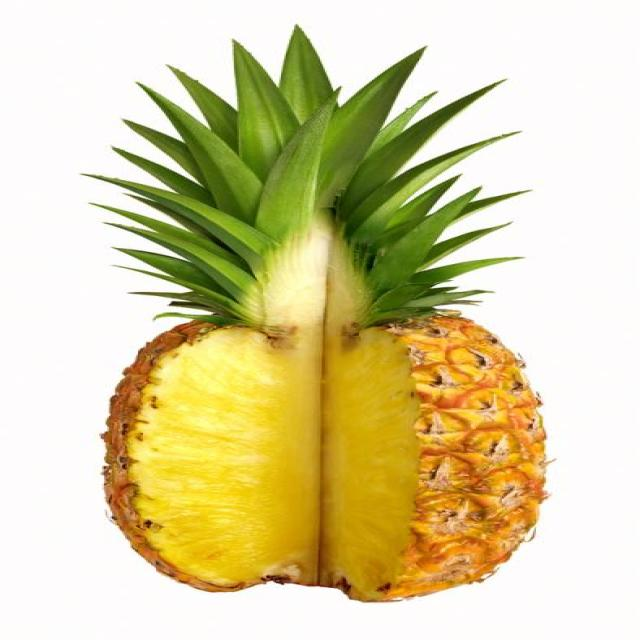pineapple: (67, 256, 554, 601)
